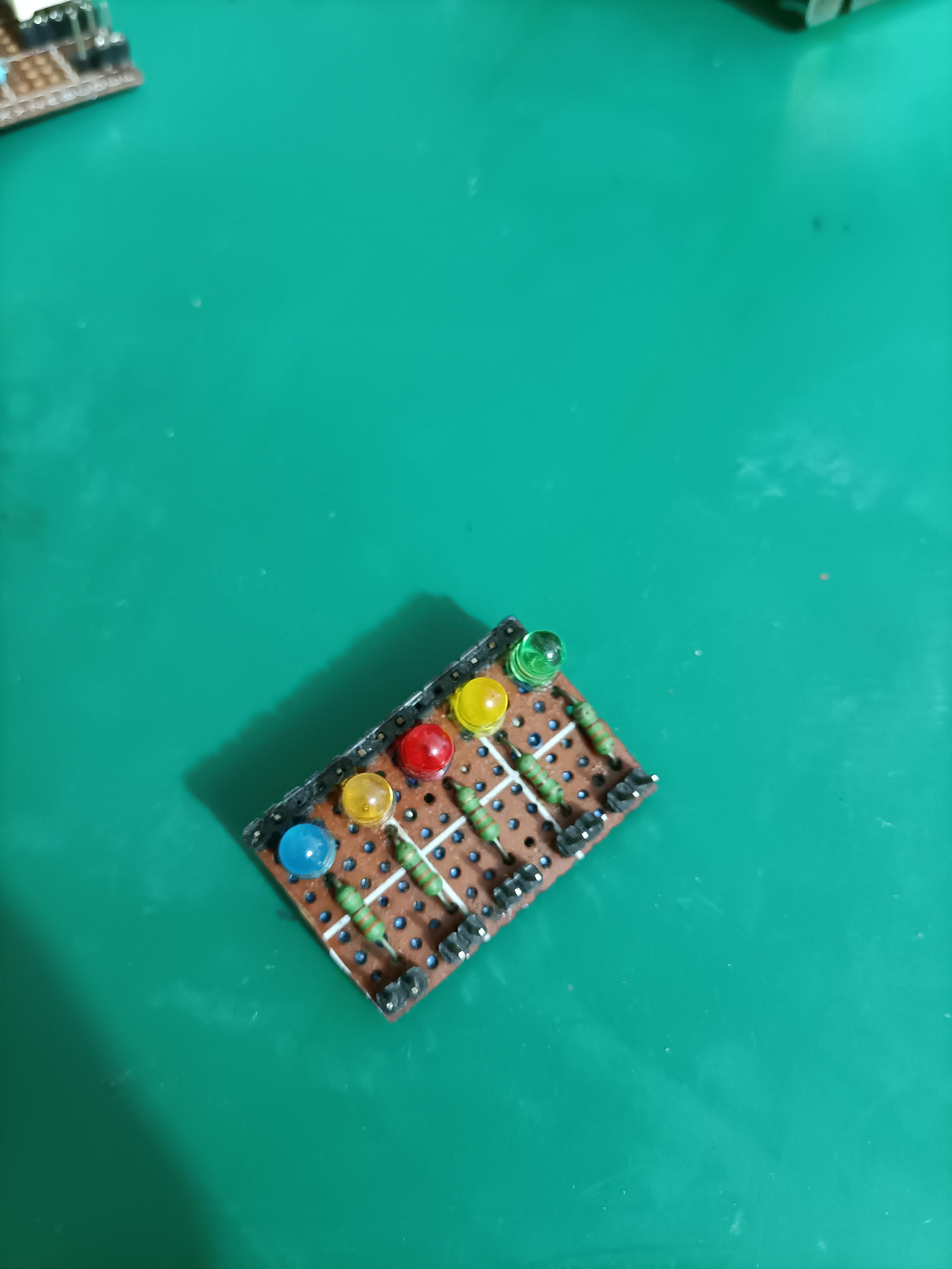LED: (508, 626, 572, 686), (459, 670, 513, 738), (273, 824, 337, 877), (341, 766, 395, 828), (399, 719, 452, 780), (564, 714, 595, 785)
Resistencia: (353, 879, 427, 909), (406, 833, 481, 862), (471, 781, 531, 810), (524, 739, 593, 762)
